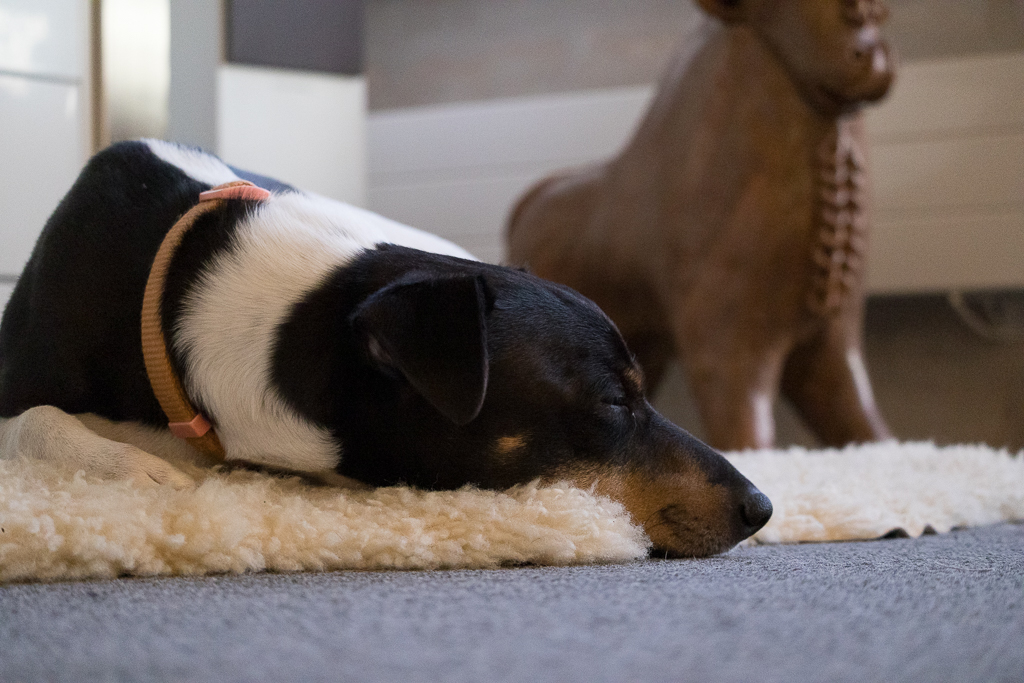Cattle: (488, 0, 914, 458)
Dog: (0, 117, 778, 566)
